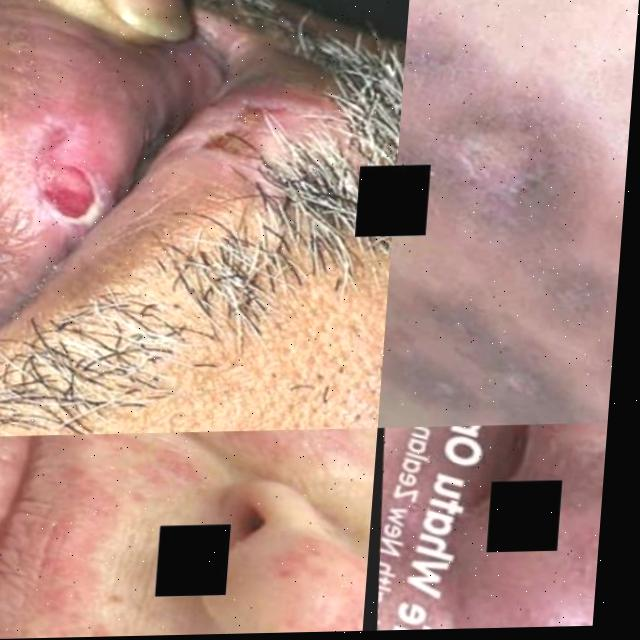lupus-detected: (382, 0, 640, 371), (0, 431, 235, 640), (0, 46, 165, 295), (171, 439, 377, 635), (413, 423, 608, 630), (166, 19, 345, 221), (378, 284, 618, 428), (0, 428, 378, 510), (0, 593, 360, 640)
